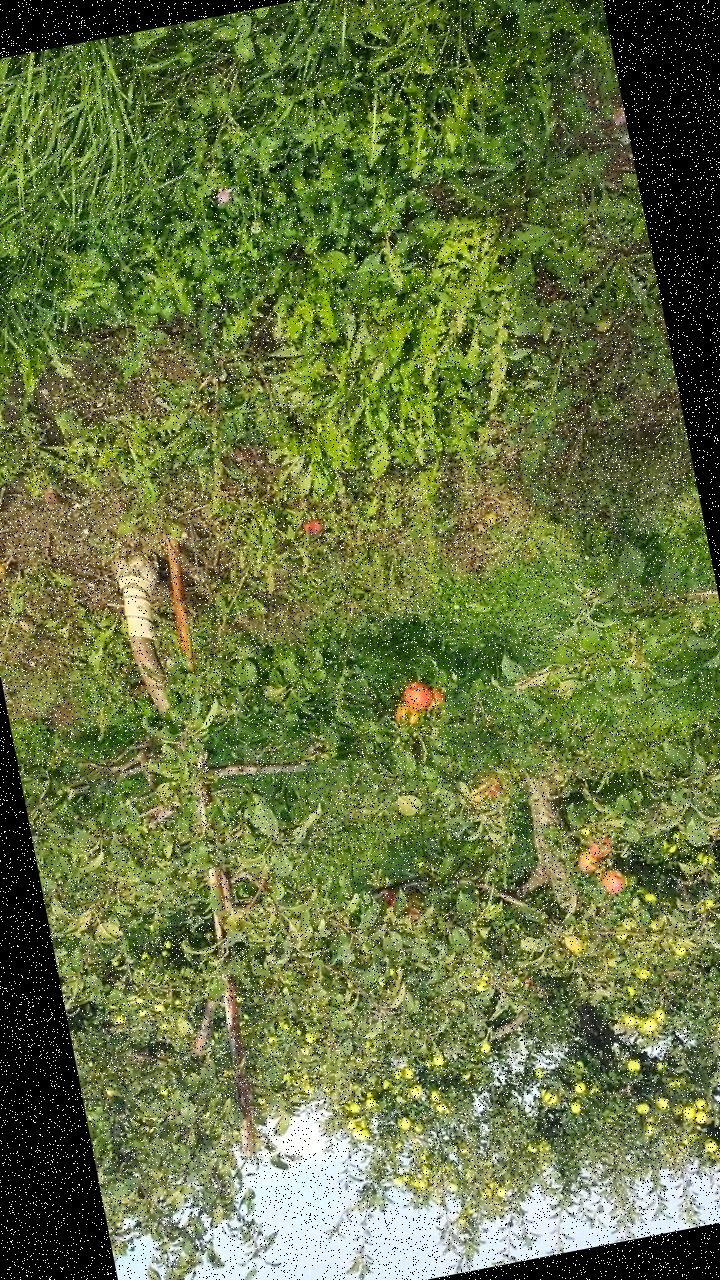Apple: (402, 679, 434, 714), (392, 698, 422, 734), (582, 835, 613, 863), (476, 773, 505, 800), (600, 868, 624, 896), (422, 686, 445, 714), (573, 849, 597, 873), (382, 890, 398, 909)
